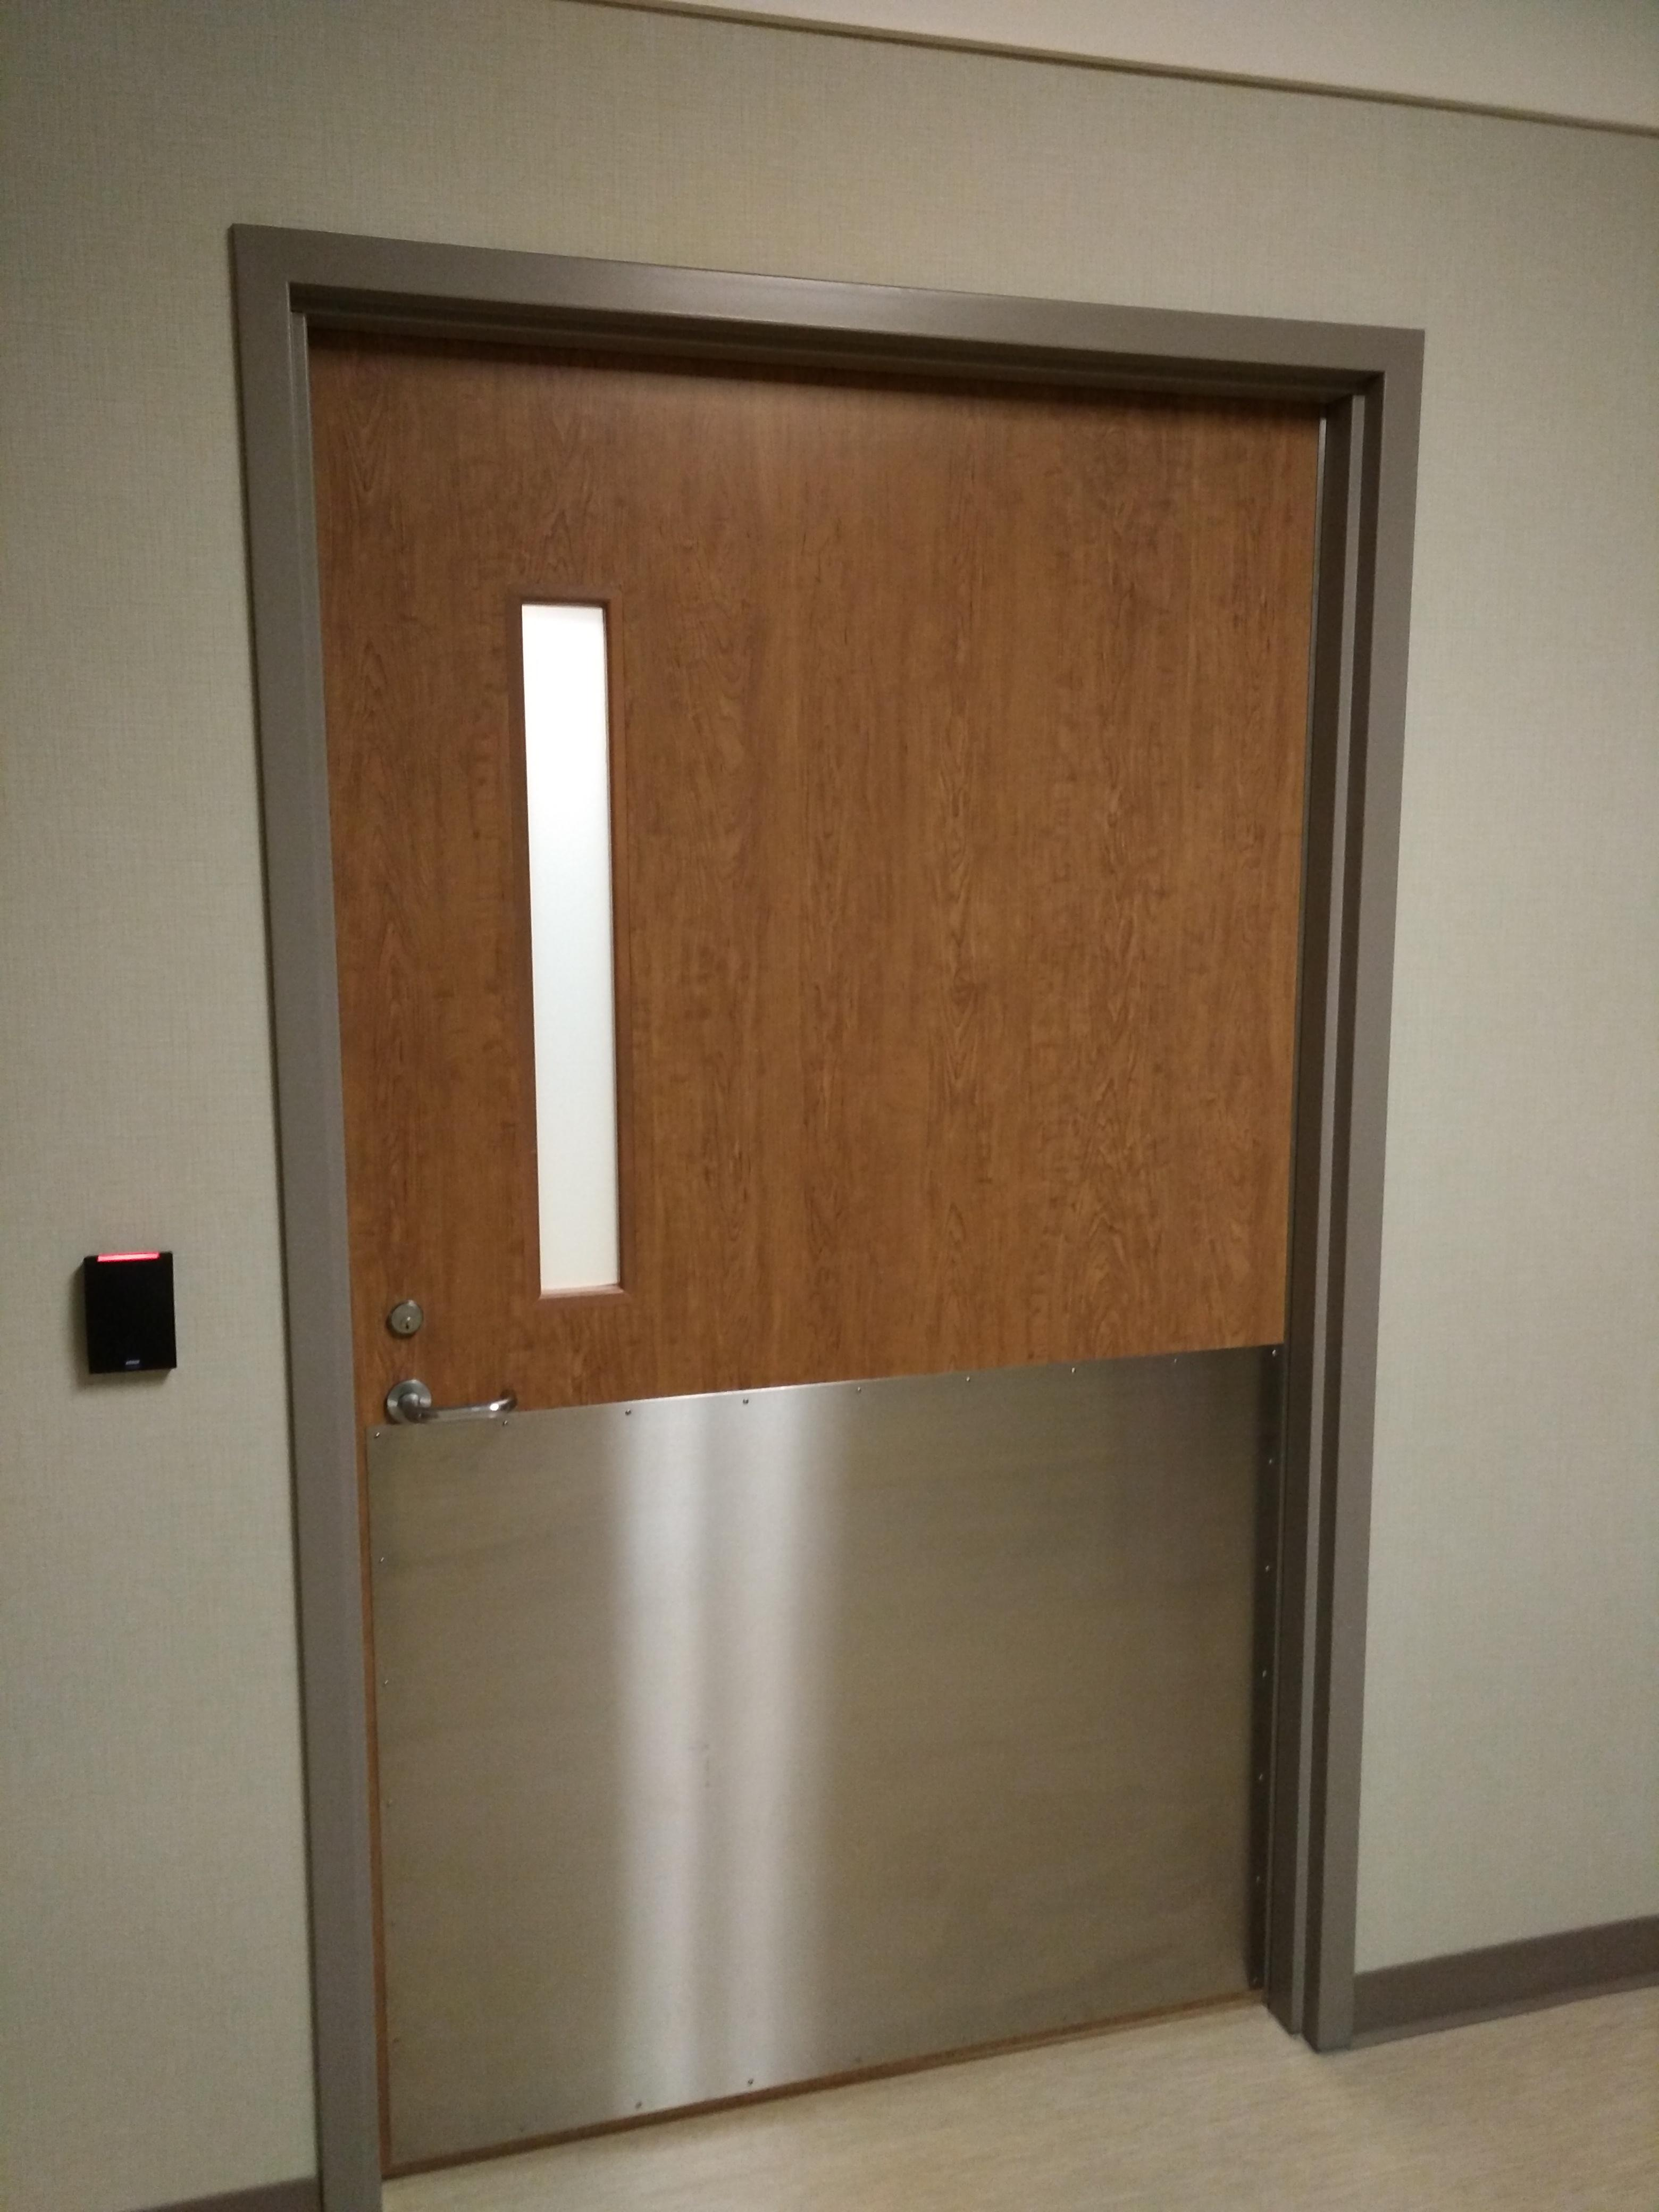door: (263, 266, 1403, 2120)
